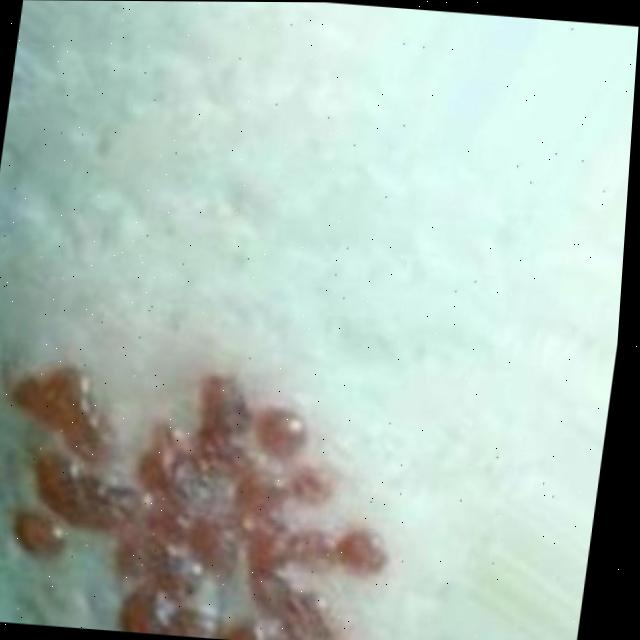Shingles: (0, 373, 406, 640)
